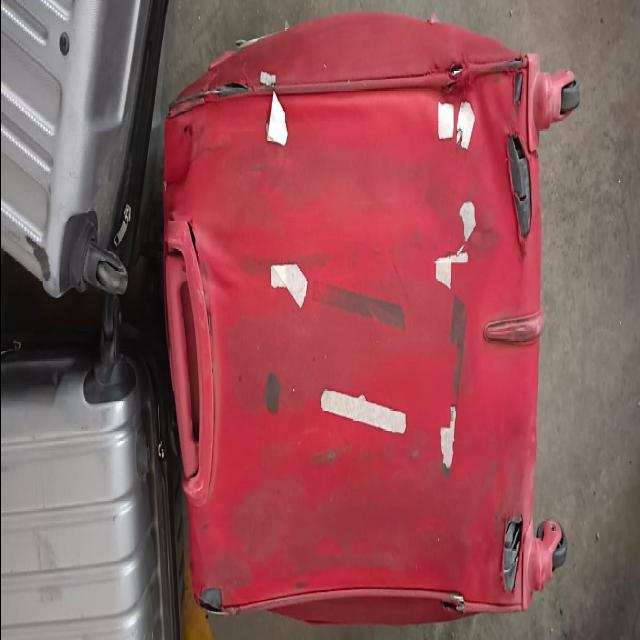Damage-bag: (189, 486, 474, 625), (163, 69, 250, 472), (441, 58, 521, 106), (509, 136, 530, 239), (502, 517, 521, 592)
